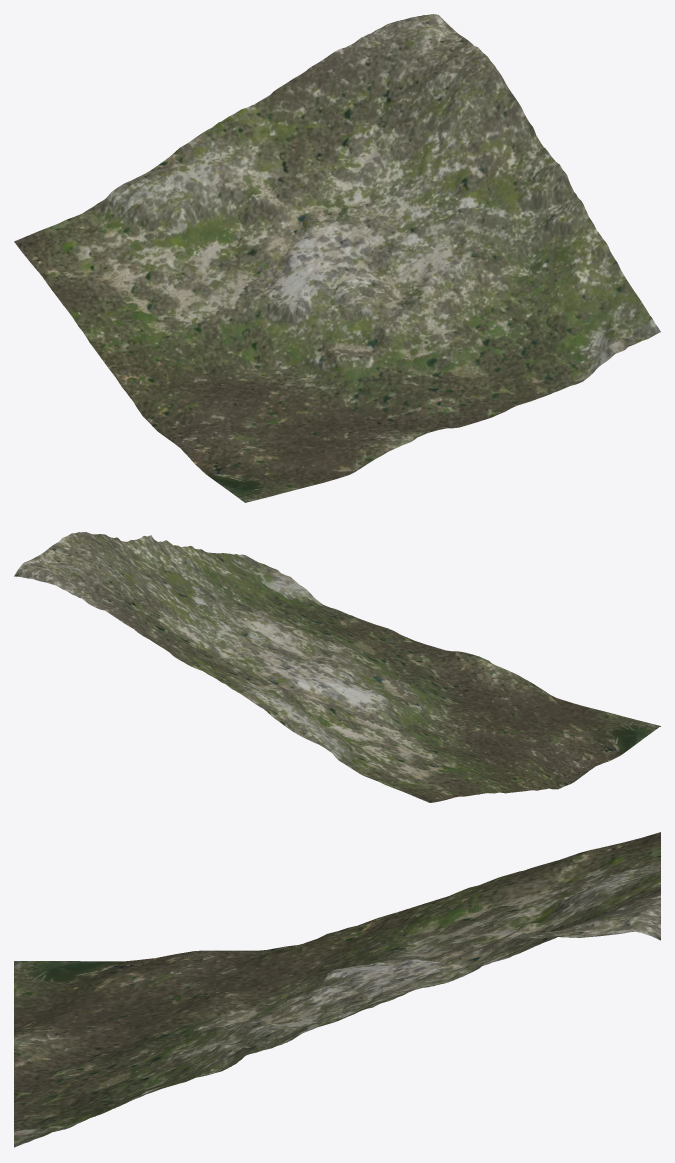
The picture shows the model from 3 angles, top to bottom: view 1: azimuth 30°, elevation 25°; view 2: azimuth 150°, elevation 25°; view 3: azimuth 270°, elevation 25°; orthographic projection. The views are drawn at different scales.
Size of the model in its own units: 500 by 259 by 481.
Materials: 1 (1 with a texture image).
